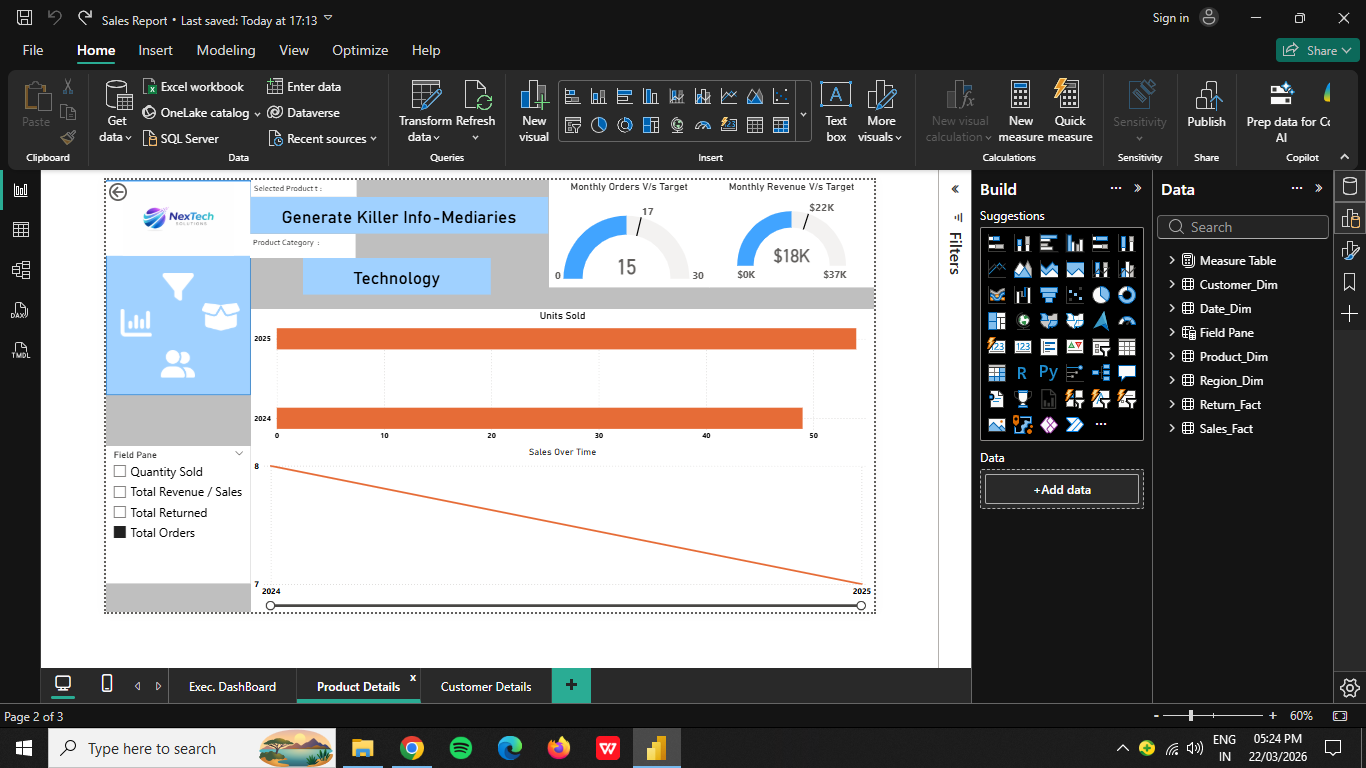

Layout of this report page (visuals, bound fields, positions):
{"tool":"powerbi","page":{"name":"Product Details","canvas":[1280,720],"ordinal":1},"visuals":[{"type":"card","fields":{"Values":["Min(Product_Dim.ProductName)"]},"box":[240.5,28.1,496.9,61.5],"z":0},{"type":"textbox","box":[241,0,176.3,27.9],"z":1000},{"type":"shape","box":[0,0,241,358.5],"z":2000},{"type":"image","box":[0,2.9,241,123.4],"z":3000},{"type":"image","box":[17.6,214.5,63.2,45.6],"z":4000},{"type":"image","box":[88.2,155.8,63.2,45.6],"z":5000},{"type":"image","box":[160.2,204.2,63.2,45.6],"z":6000},{"type":"image","box":[88.2,283.6,63.2,45.6],"z":8000},{"type":"gauge","title":"Monthly Orders V/s Target","fields":{"TargetValue":["Measure Table.Order Target"],"Y":["Measure Table.Total Orders"]},"box":[737.6,0,267.4,179.3],"z":9000},{"type":"gauge","title":"Monthly Revenue V/s Target","fields":{"TargetValue":["Measure Table.Revenue Target"],"Y":["Measure Table.Total Revenue / Sales"]},"box":[1004.7,0,275.3,178.8],"z":10000},{"type":"textbox","box":[240.5,89.5,175.6,40.4],"z":11000},{"type":"card","fields":{"Values":["Min(Product_Dim.Category)"]},"box":[328.3,129.9,312.5,61.5],"z":12000},{"type":"actionButton","box":[0,0,100,40],"z":13000},{"type":"barChart","title":"Units Sold ","fields":{"Category":["Date_Dim.Year Hierarchy.Year","Date_Dim.Year Hierarchy.Quarter","Date_Dim.Year Hierarchy.Start of Month","Date_Dim.Year Hierarchy.Start of Week"],"Y":["Sum(Sales_Fact.UnitsSold)"]},"box":[241.3,214.5,1038.7,228.8],"z":14000},{"type":"lineChart","title":"Sales Over Time","fields":{"Category":["Date_Dim.Year Hierarchy.Year","Date_Dim.Year Hierarchy.Quarter","Date_Dim.Year Hierarchy.Start of Month","Date_Dim.Year Hierarchy.Start of Week"],"Y":["Measure Table.Total Orders"]},"box":[241.3,443.4,1038.7,277.1],"z":15000},{"type":"slicer","fields":{"Values":["Field Pane.Field Pane"]},"box":[0,443.4,241.3,228.8],"z":16000}]}

Visuals, with their boxes on the page's 1280x720 design canvas (x1, y1, x2, y2). These are canvas units, not pixel positions in the 1366x768 screenshot, which may show the page scaled, cropped or inside an application window:
card - Min(Product_Dim.ProductName): detection(240, 28, 737, 90)
textbox: detection(241, 0, 417, 28)
shape: detection(0, 0, 241, 358)
image: detection(0, 3, 241, 126)
image: detection(18, 214, 81, 260)
image: detection(88, 156, 151, 201)
image: detection(160, 204, 223, 250)
image: detection(88, 284, 151, 329)
"Monthly Orders V/s Target" gauge: detection(738, 0, 1005, 179)
"Monthly Revenue V/s Target" gauge: detection(1005, 0, 1280, 179)
textbox: detection(240, 90, 416, 130)
card - Min(Product_Dim.Category): detection(328, 130, 641, 191)
actionButton: detection(0, 0, 100, 40)
"Units Sold " barChart: detection(241, 214, 1280, 443)
"Sales Over Time" lineChart: detection(241, 443, 1280, 720)
slicer - Field Pane.Field Pane: detection(0, 443, 241, 672)
